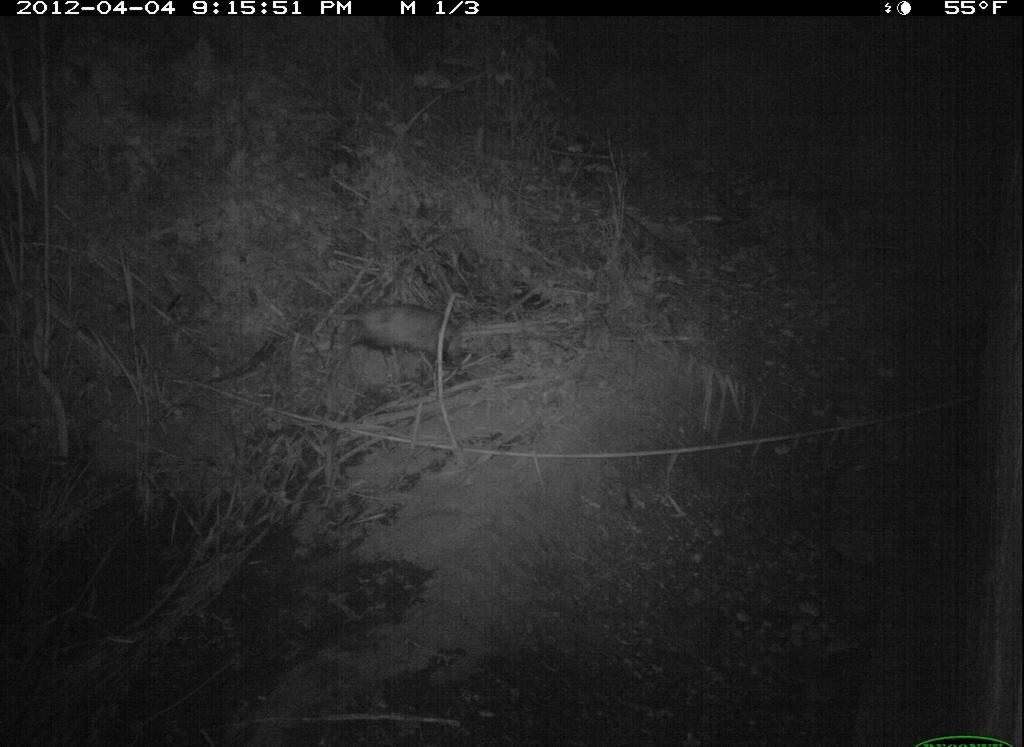opossum: (282, 294, 479, 370)
